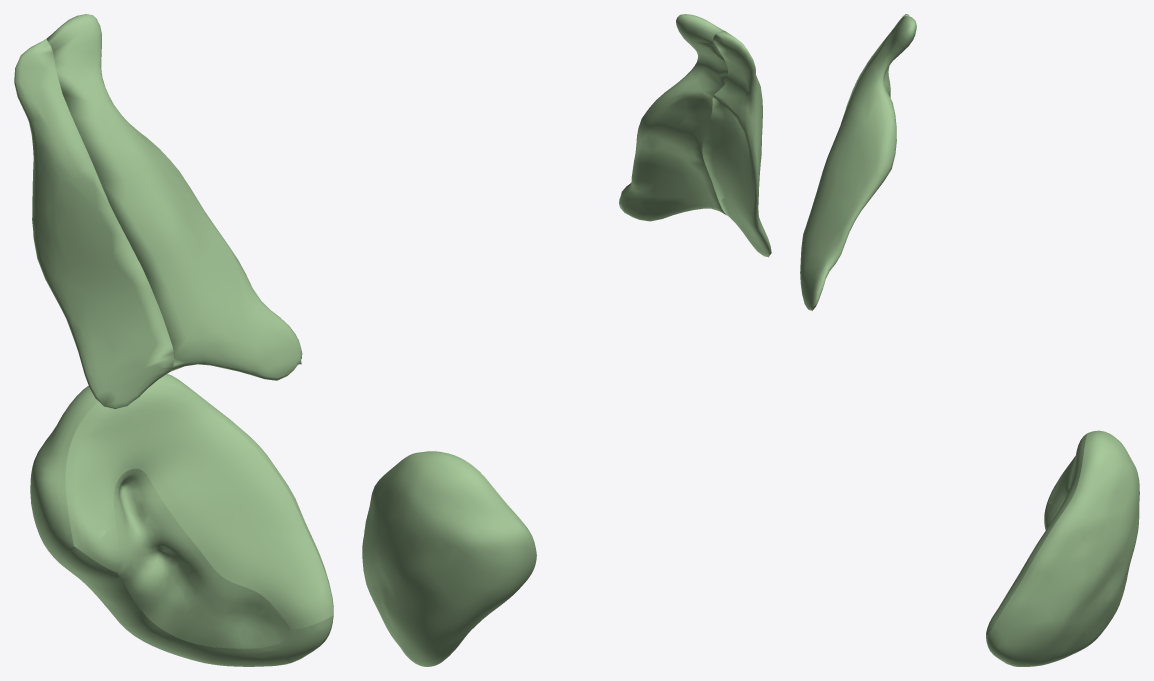
The model's file is adult_female.lymphatic.LOD0.glb.
The picture shows the model from 3 angles, left to right: view 1: azimuth 30°, elevation 25°; view 2: azimuth 150°, elevation 25°; view 3: azimuth 270°, elevation 25°; orthographic projection. The views are drawn at different scales.
Visible parts, largest first — view 1: ADULT.FEMALE.LYMPHATIC.GASTRIC_SURFACE_OF_SPLEEN, ADULT.FEMALE.LYMPHATIC.THYMUS_LOBE.L, ADULT.FEMALE.LYMPHATIC.THYMUS_LOBE.R, ADULT.FEMALE.LYMPHATIC.HILUM_OF_SPLEEN, ADULT.FEMALE.LYMPHATIC.DIAPHRAGMATIC_SURFACE_OF_SPLEEN, ADULT.FEMALE.LYMPHATIC.RENAL_SURFACE_OF_SPLEEN, ADULT.FEMALE.LYMPHATIC.COLIC_SURFACE_OF_SPLEEN; view 2: ADULT.FEMALE.LYMPHATIC.DIAPHRAGMATIC_SURFACE_OF_SPLEEN, ADULT.FEMALE.LYMPHATIC.THYMUS_LOBE.L, ADULT.FEMALE.LYMPHATIC.THYMUS_LOBE.R; view 3: ADULT.FEMALE.LYMPHATIC.DIAPHRAGMATIC_SURFACE_OF_SPLEEN, ADULT.FEMALE.LYMPHATIC.THYMUS_LOBE.L, ADULT.FEMALE.LYMPHATIC.GASTRIC_SURFACE_OF_SPLEEN.
Part boxes in pixels (left/top/right/bottom): ADULT.FEMALE.LYMPHATIC.GASTRIC_SURFACE_OF_SPLEEN: left=65, top=382, right=333, bottom=628; ADULT.FEMALE.LYMPHATIC.THYMUS_LOBE.L: left=47, top=14, right=302, bottom=380; ADULT.FEMALE.LYMPHATIC.THYMUS_LOBE.R: left=14, top=38, right=174, bottom=409; ADULT.FEMALE.LYMPHATIC.HILUM_OF_SPLEEN: left=113, top=468, right=290, bottom=648; ADULT.FEMALE.LYMPHATIC.DIAPHRAGMATIC_SURFACE_OF_SPLEEN: left=30, top=374, right=333, bottom=666; ADULT.FEMALE.LYMPHATIC.RENAL_SURFACE_OF_SPLEEN: left=59, top=546, right=289, bottom=666; ADULT.FEMALE.LYMPHATIC.COLIC_SURFACE_OF_SPLEEN: left=279, top=616, right=332, bottom=662; ADULT.FEMALE.LYMPHATIC.DIAPHRAGMATIC_SURFACE_OF_SPLEEN: left=362, top=451, right=536, bottom=666; ADULT.FEMALE.LYMPHATIC.THYMUS_LOBE.L: left=619, top=14, right=727, bottom=221; ADULT.FEMALE.LYMPHATIC.THYMUS_LOBE.R: left=702, top=30, right=771, bottom=257; ADULT.FEMALE.LYMPHATIC.DIAPHRAGMATIC_SURFACE_OF_SPLEEN: left=987, top=430, right=1139, bottom=666; ADULT.FEMALE.LYMPHATIC.THYMUS_LOBE.L: left=800, top=16, right=916, bottom=310; ADULT.FEMALE.LYMPHATIC.GASTRIC_SURFACE_OF_SPLEEN: left=986, top=434, right=1086, bottom=635.
Bounding box in the file's own units: 0.147 × 0.2822 × 0.1566.
